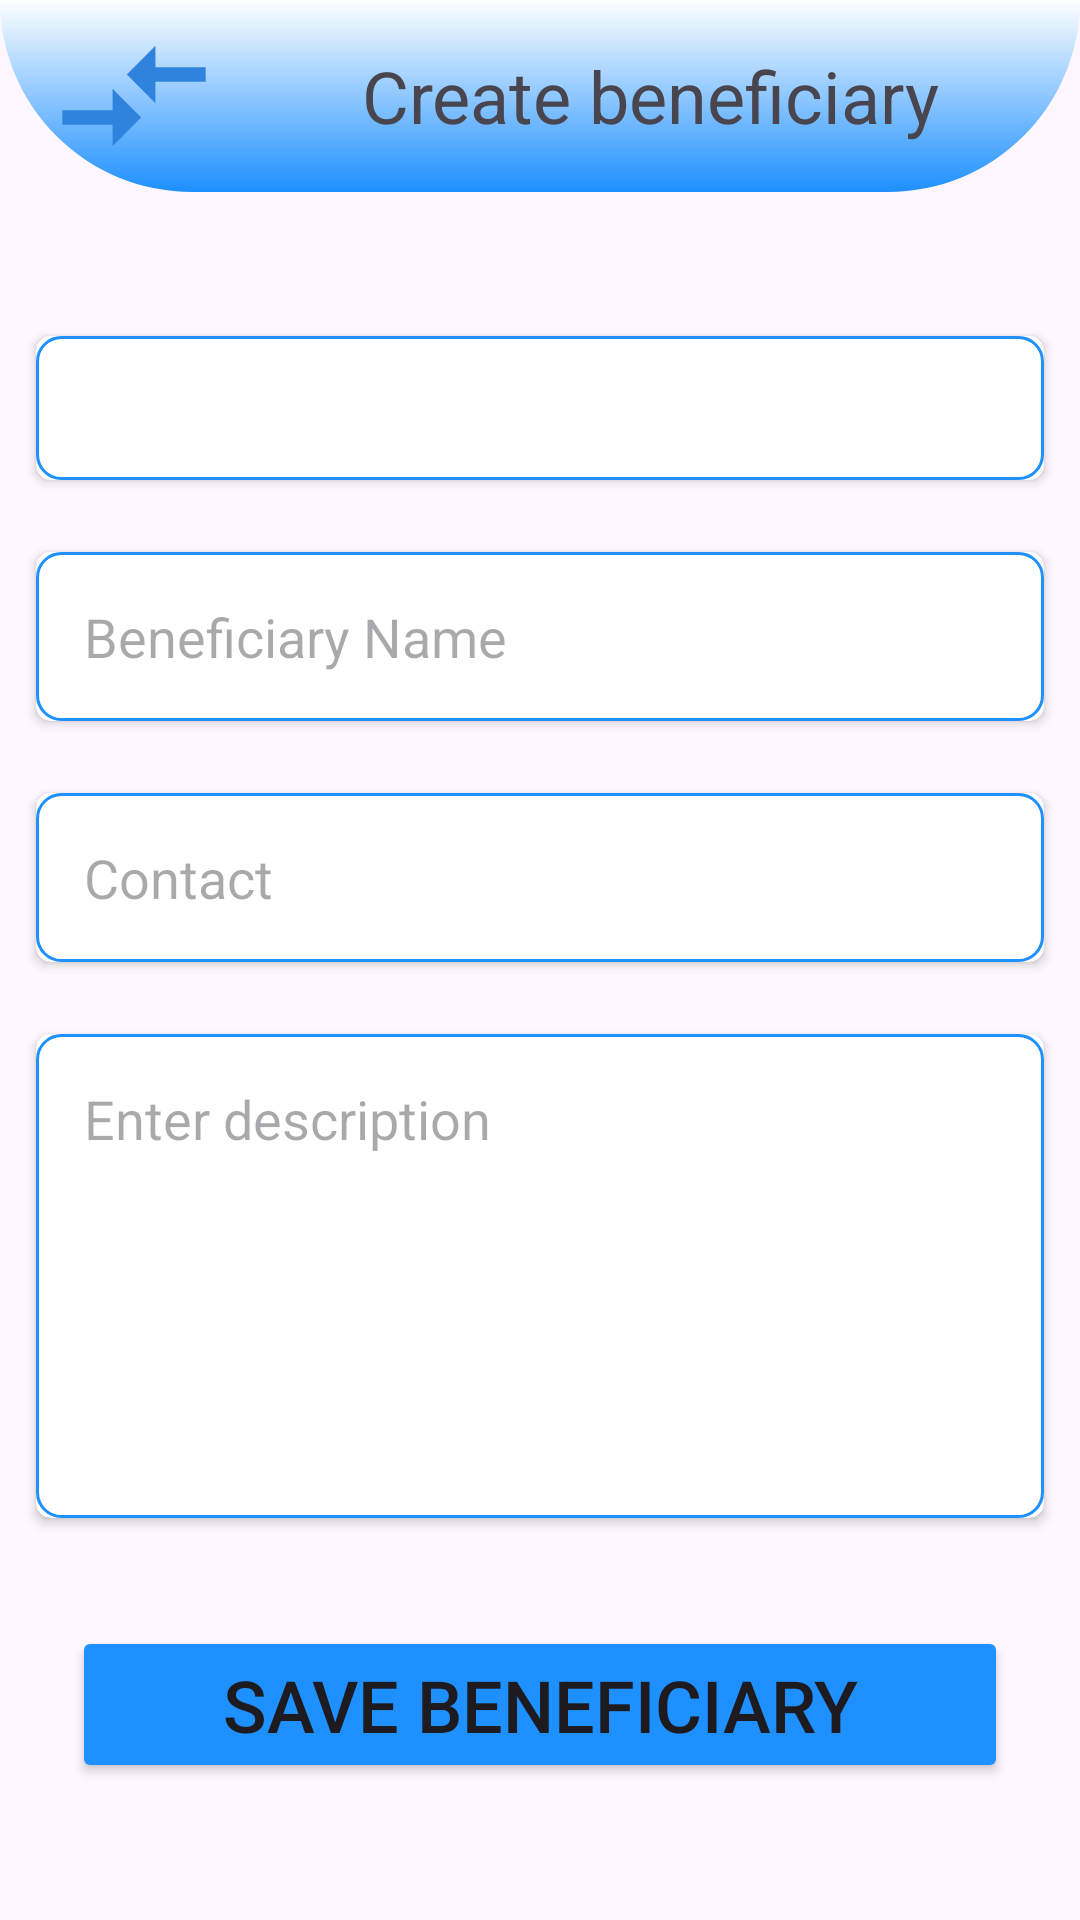

Icon click points for this 1080x1920 phone screenshot, format (x=x, y=y):
Transaction: (x=134, y=96)
